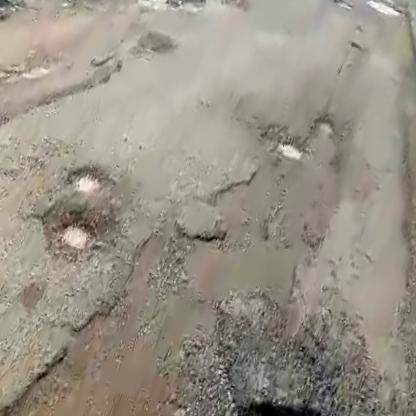pothole: (205, 388, 372, 416), (50, 206, 103, 266), (68, 159, 112, 202), (274, 138, 306, 165), (310, 114, 339, 140)
